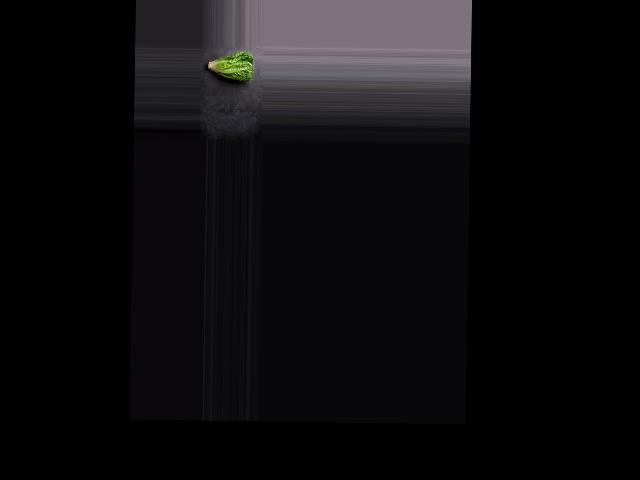lettuce: (204, 49, 253, 82)
